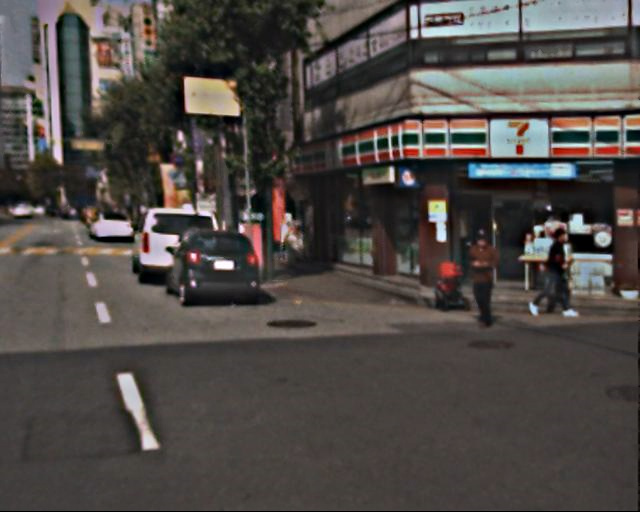person: (463, 230, 510, 331), (541, 224, 585, 322)
